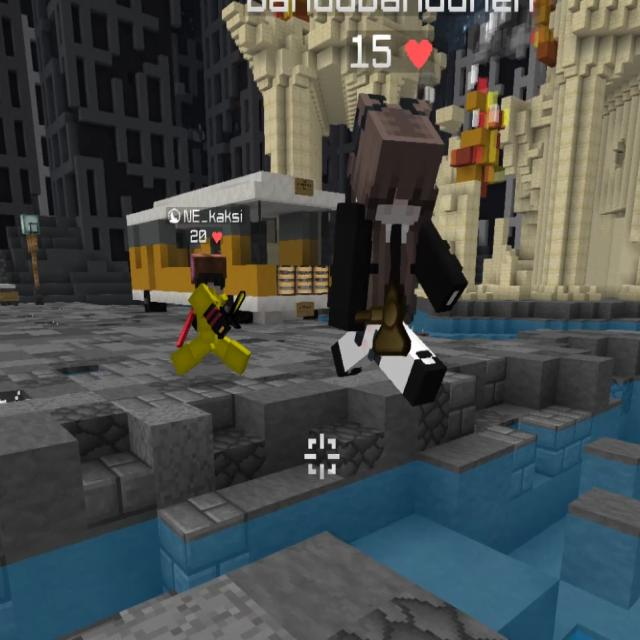Player: (329, 92, 469, 408), (170, 252, 250, 384)
